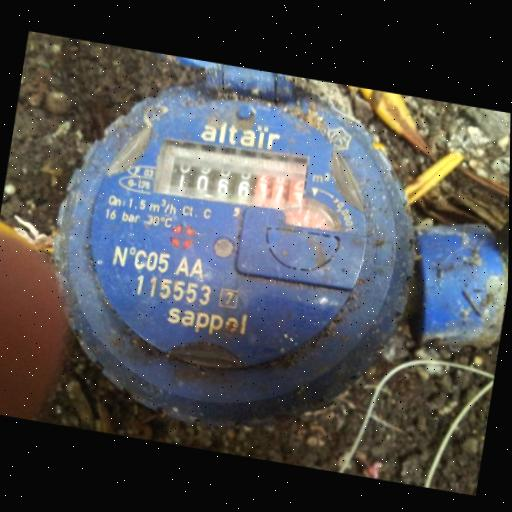0: (191, 160, 216, 200)
1: (170, 157, 195, 197)
3: (252, 171, 272, 208), (287, 177, 305, 209)
6: (233, 166, 256, 205), (213, 164, 235, 204)
7: (270, 173, 290, 210)
border_water_meter_number: (251, 170, 307, 215)
